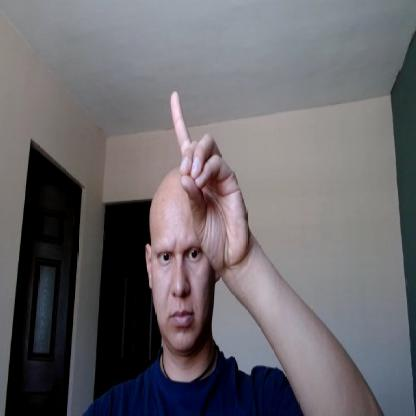D: (169, 89, 248, 264)
